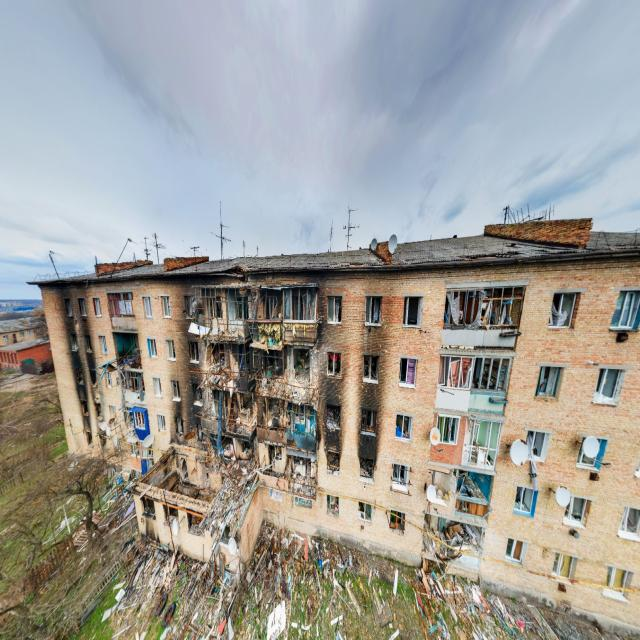broken_window: (592, 366, 624, 406), (548, 290, 578, 329), (536, 364, 560, 400), (403, 295, 422, 328), (399, 356, 417, 388), (364, 294, 382, 326), (362, 353, 379, 384), (395, 414, 412, 442), (327, 294, 342, 324), (326, 351, 341, 378)
building: (28, 216, 639, 630)
roof: (26, 220, 639, 290)
